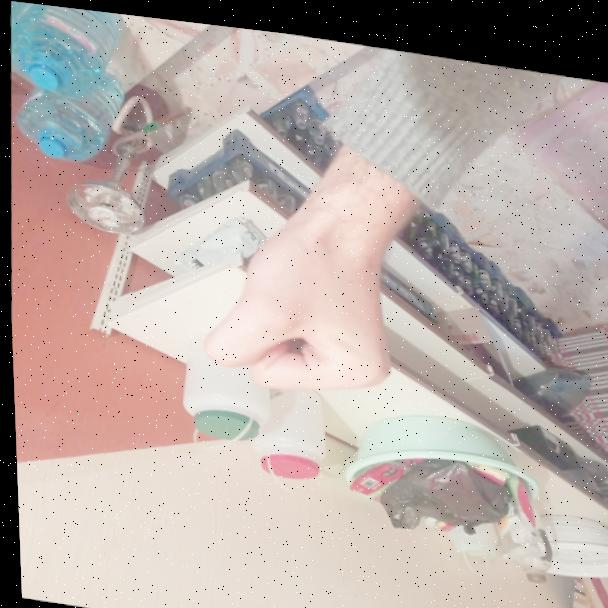five: (190, 179, 408, 406)
